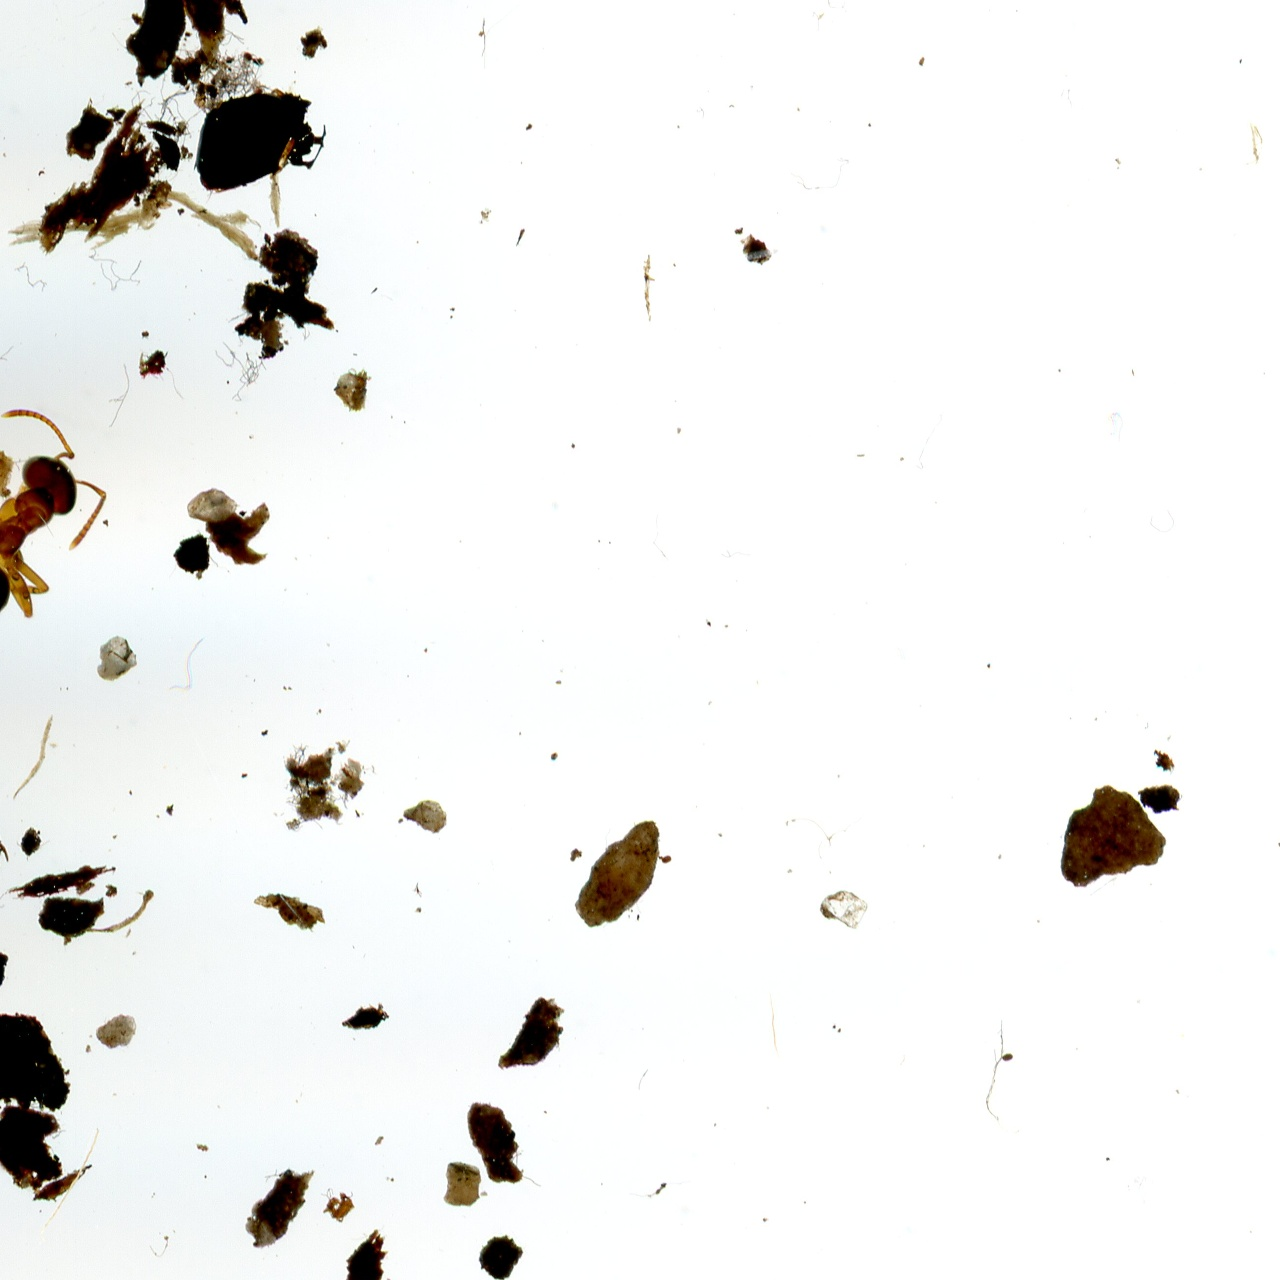arthropod: (0, 387, 148, 667)
